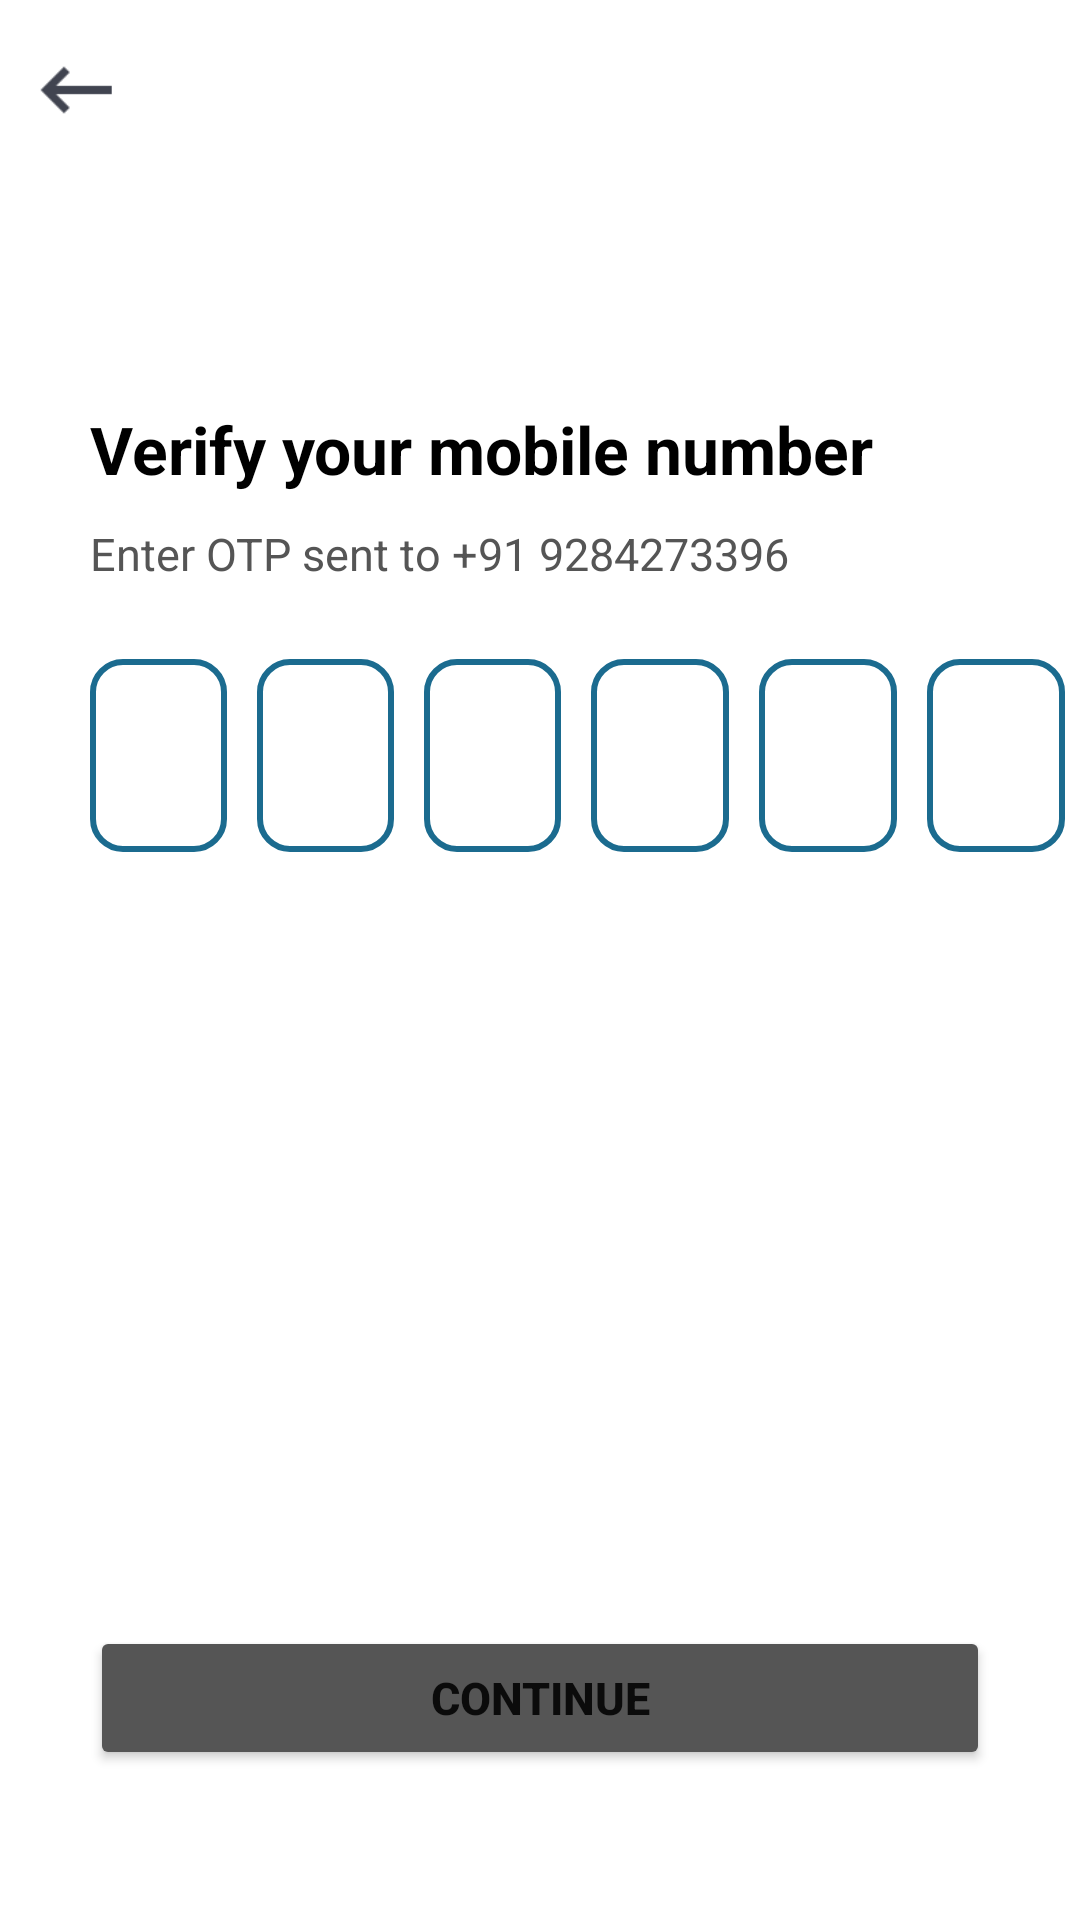

Named icons in this screenshot (1080x1920) and their bounding boxes, (x1, y1, x2, y2):
back: (41, 66, 112, 114)
